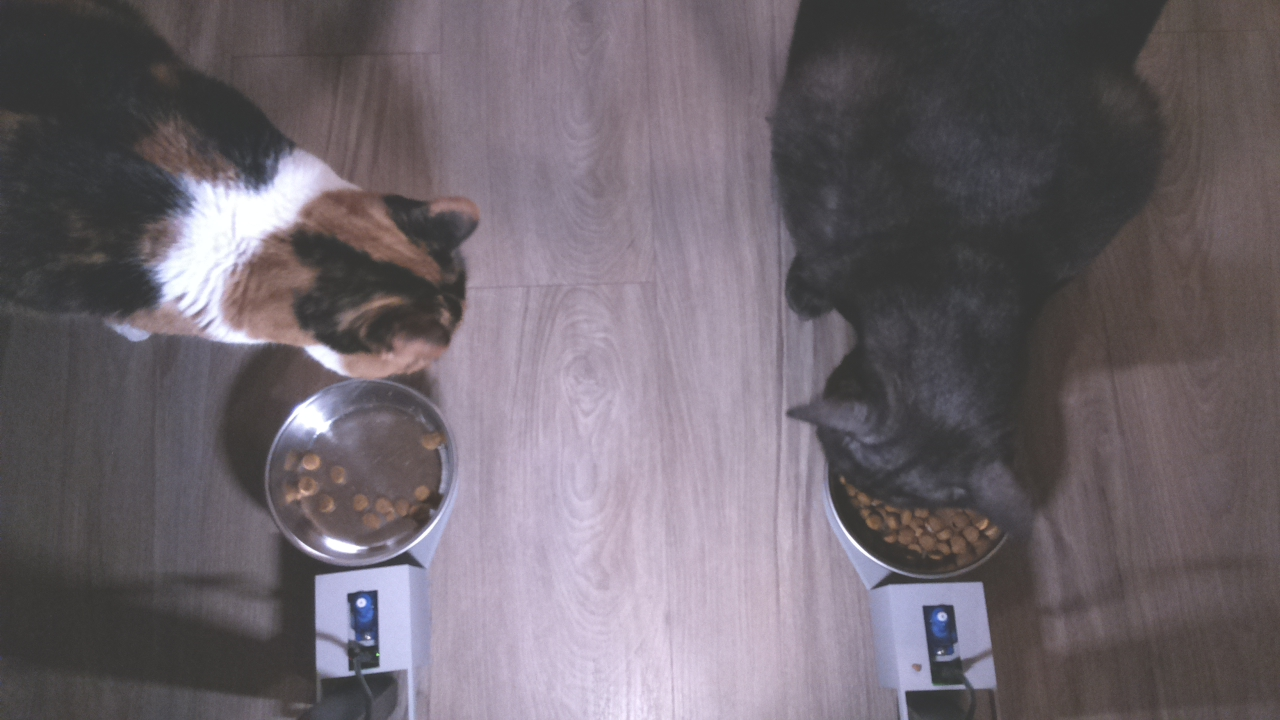bella: (258, 157, 486, 379)
open_bowl: (256, 383, 463, 570)
saki_eating: (777, 297, 1072, 592)
